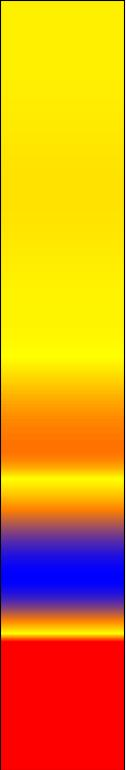Thermal Runaway: (5, 8, 116, 514), (14, 624, 120, 766)
critical: (6, 516, 115, 533), (8, 604, 118, 619)
safe: (5, 539, 119, 596)
